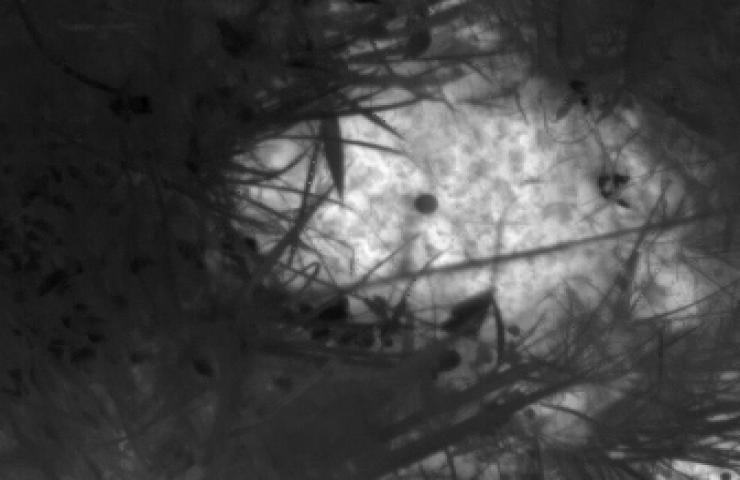landmines: (229, 1, 721, 365)
